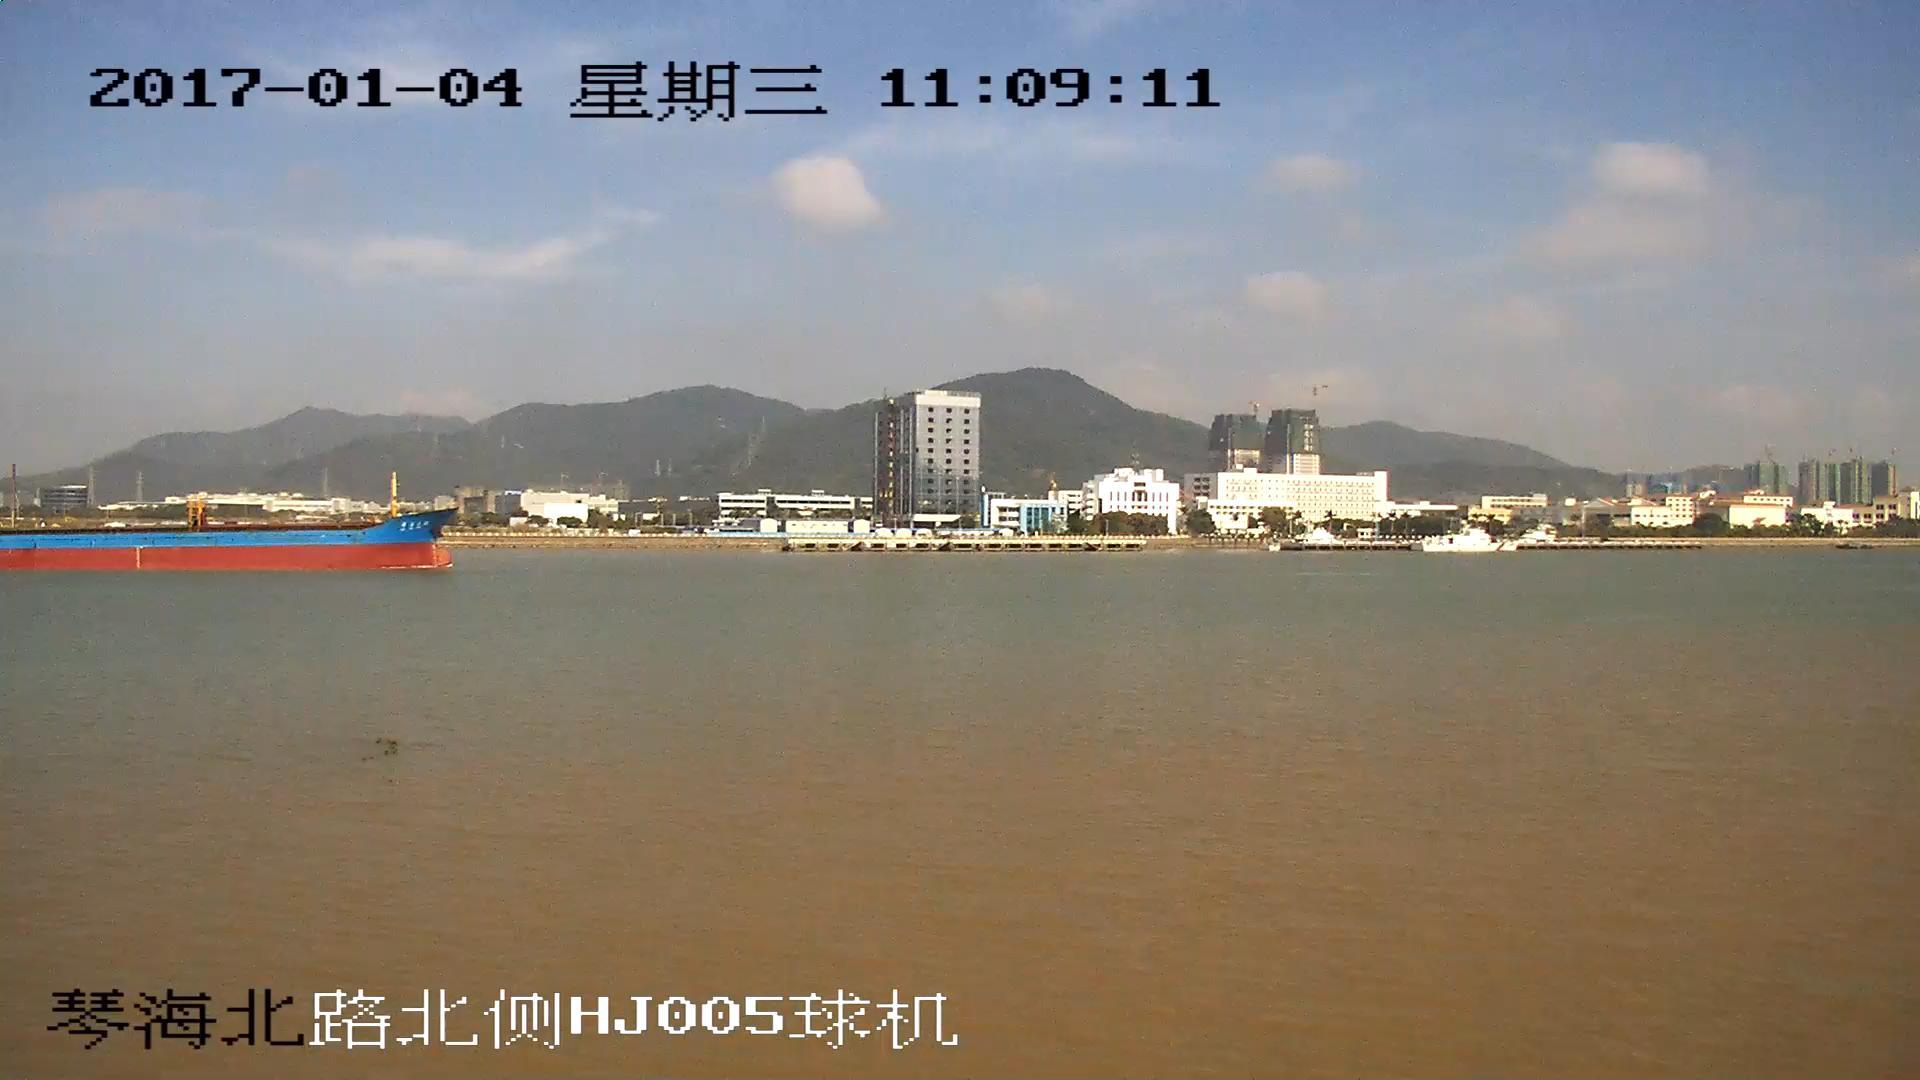Ship: (3, 477, 458, 575)
